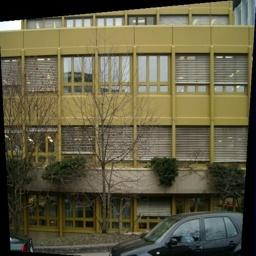building: (0, 0, 256, 234)
